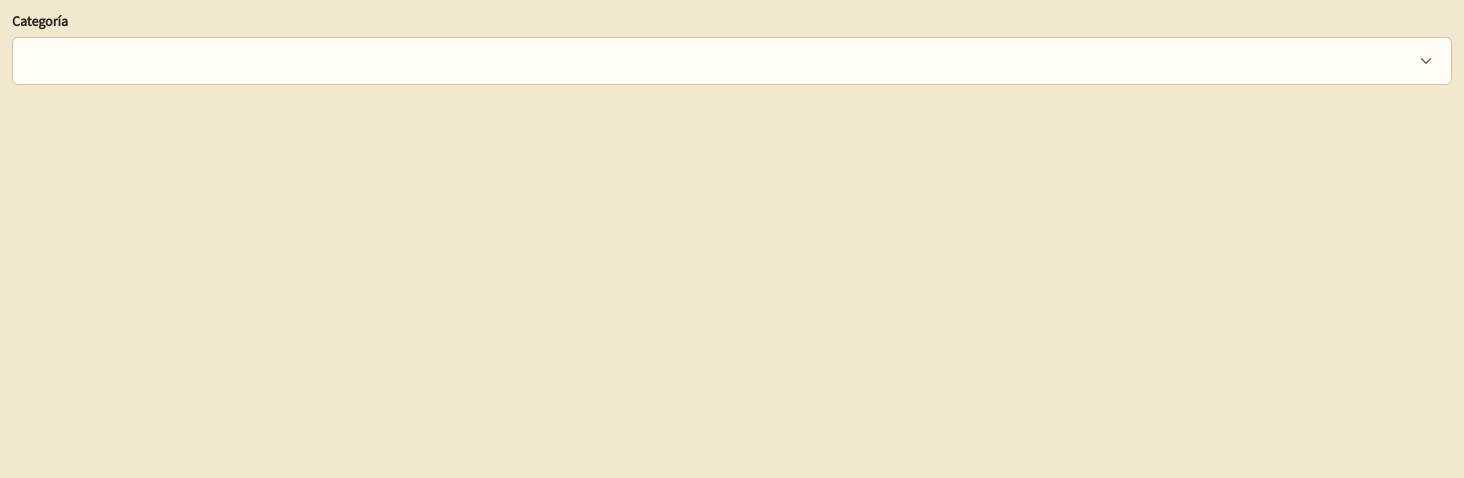
Test: SelectorConBuscador › al tocarlo se abre el listbox con las etiquetas de grupo
Click the dropdown named "Categoría" at x=1426, y=61, box [12,37,1452,85]
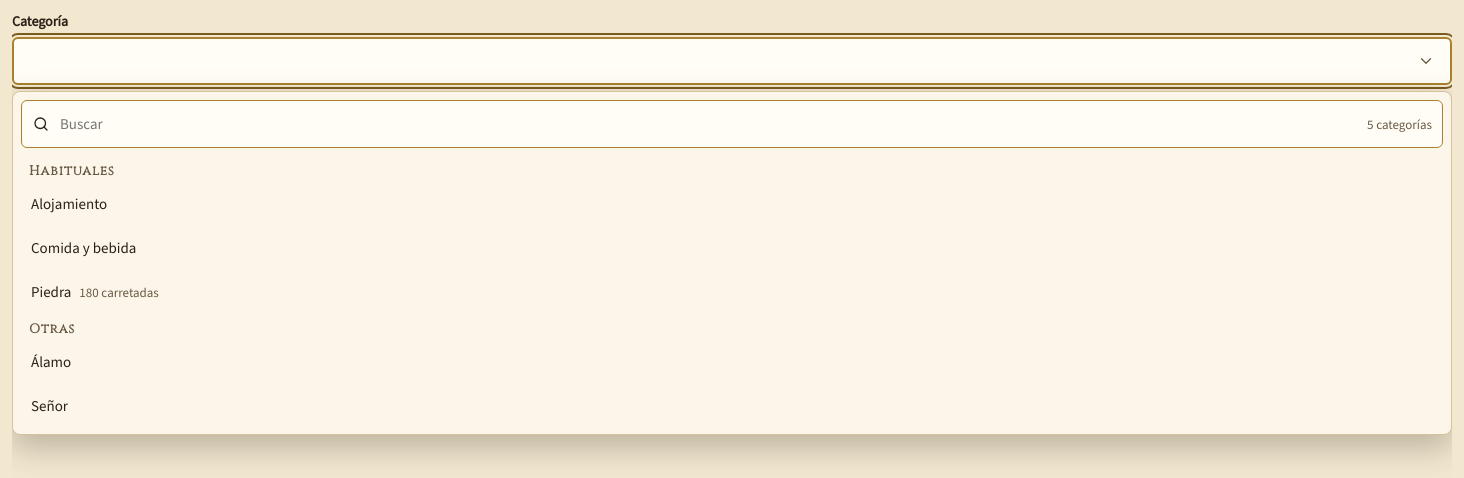
Check: the list named "Categoría" is shown, box [29,162,159,416]
Check: the element "Habituales" is shown, box [29,162,159,302]
Check: the element "Otras" is shown, box [29,320,75,416]
